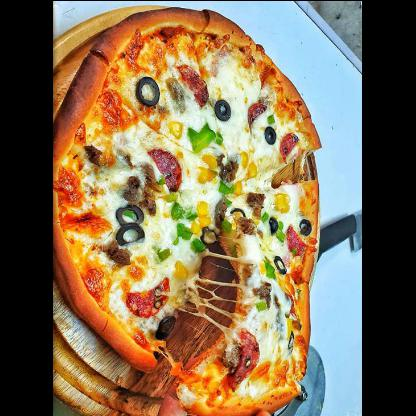pizza: (55, 6, 324, 415)
